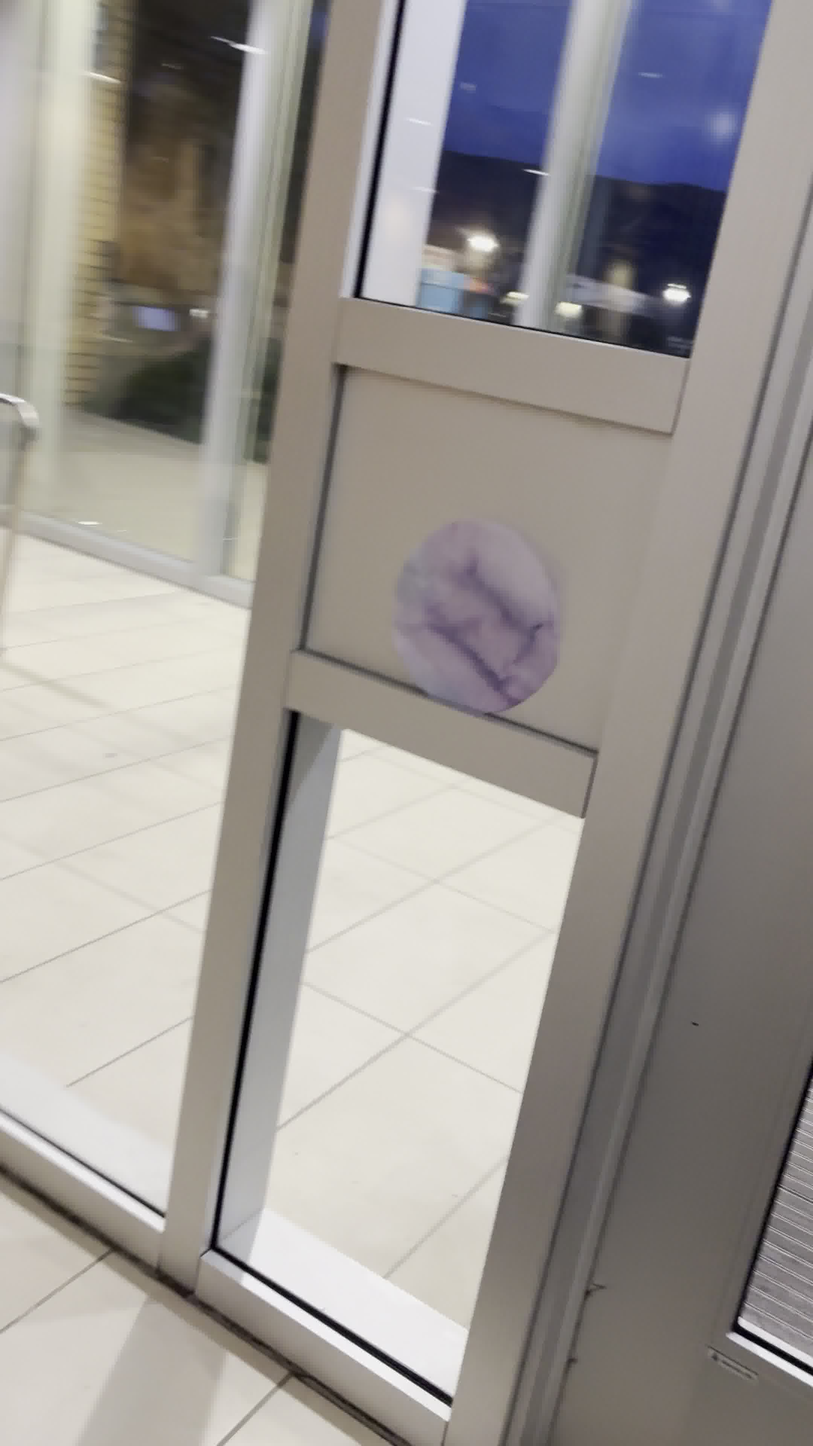Target: (390, 516, 565, 718)
